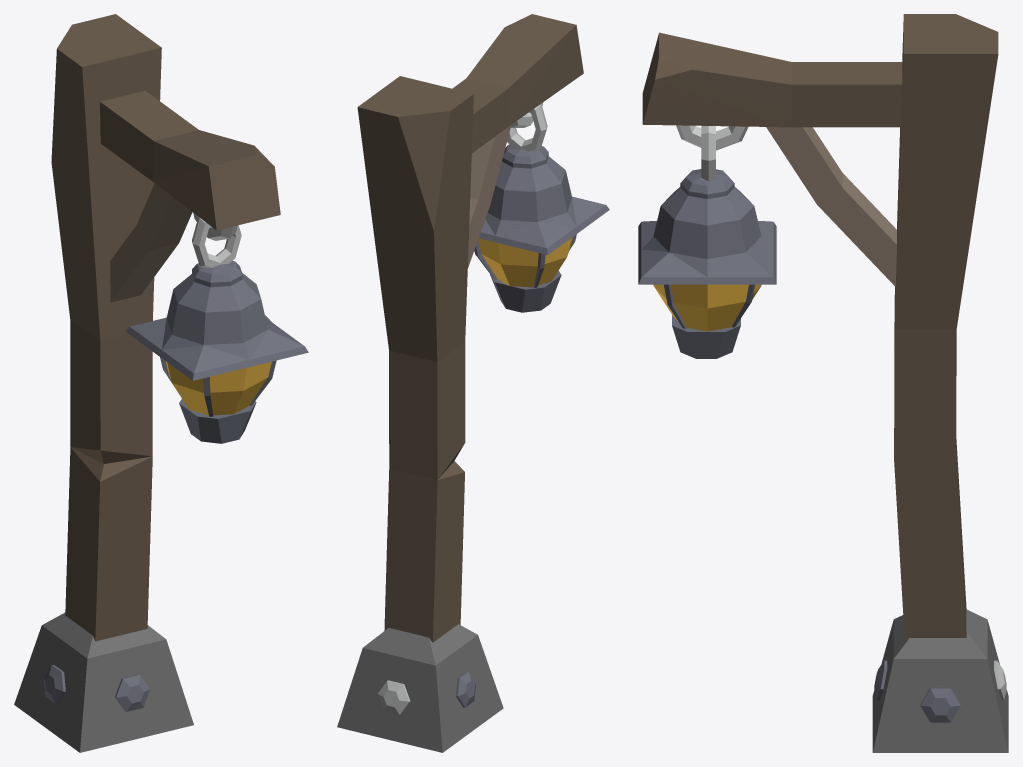
File: Lamp_01.glb
The picture shows the model from 3 angles, left to right: view 1: azimuth 30°, elevation 25°; view 2: azimuth 150°, elevation 25°; view 3: azimuth 270°, elevation 25°; orthographic projection. The views are drawn at different scales.
Parts seen in each view (by area): view 1: Lamp_1; view 2: Lamp_1; view 3: Lamp_1.
Boxes of the visible parts, x1=… form: Lamp_1: x1=14, y1=14, x2=308, y2=752; Lamp_1: x1=337, y1=14, x2=609, y2=752; Lamp_1: x1=638, y1=14, x2=1008, y2=752.
Size of the model in its own units: 0.667 by 3.68 by 1.79.
Materials: 1 (1 with a texture image).
